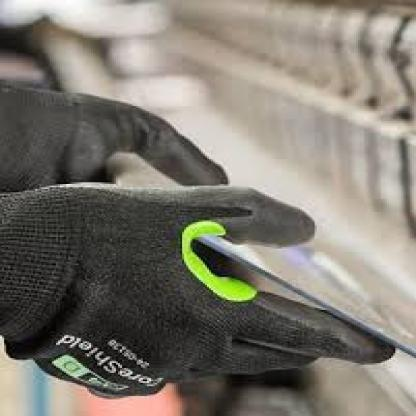gloves: (0, 174, 406, 403)
